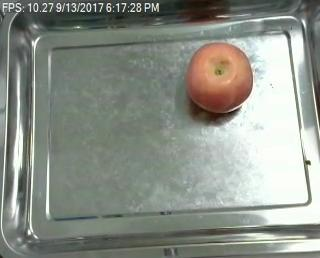apple: (184, 41, 256, 114)
